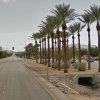Palm tree: (27, 5, 99, 62)
